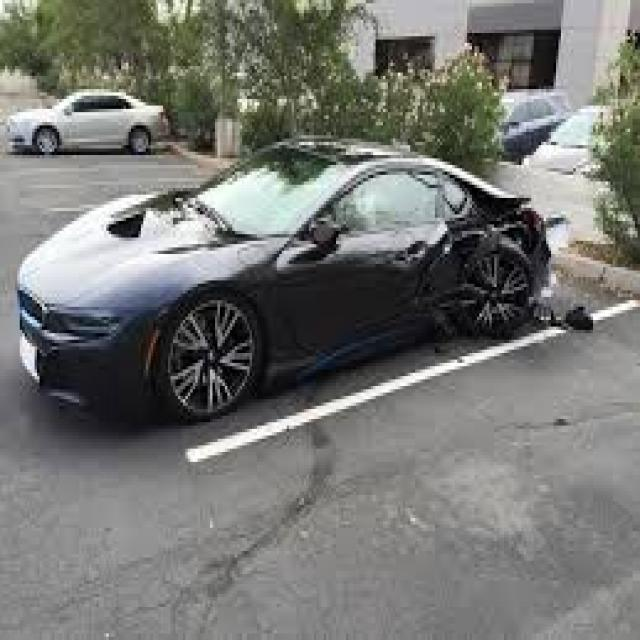moderate: (365, 75, 640, 458)
